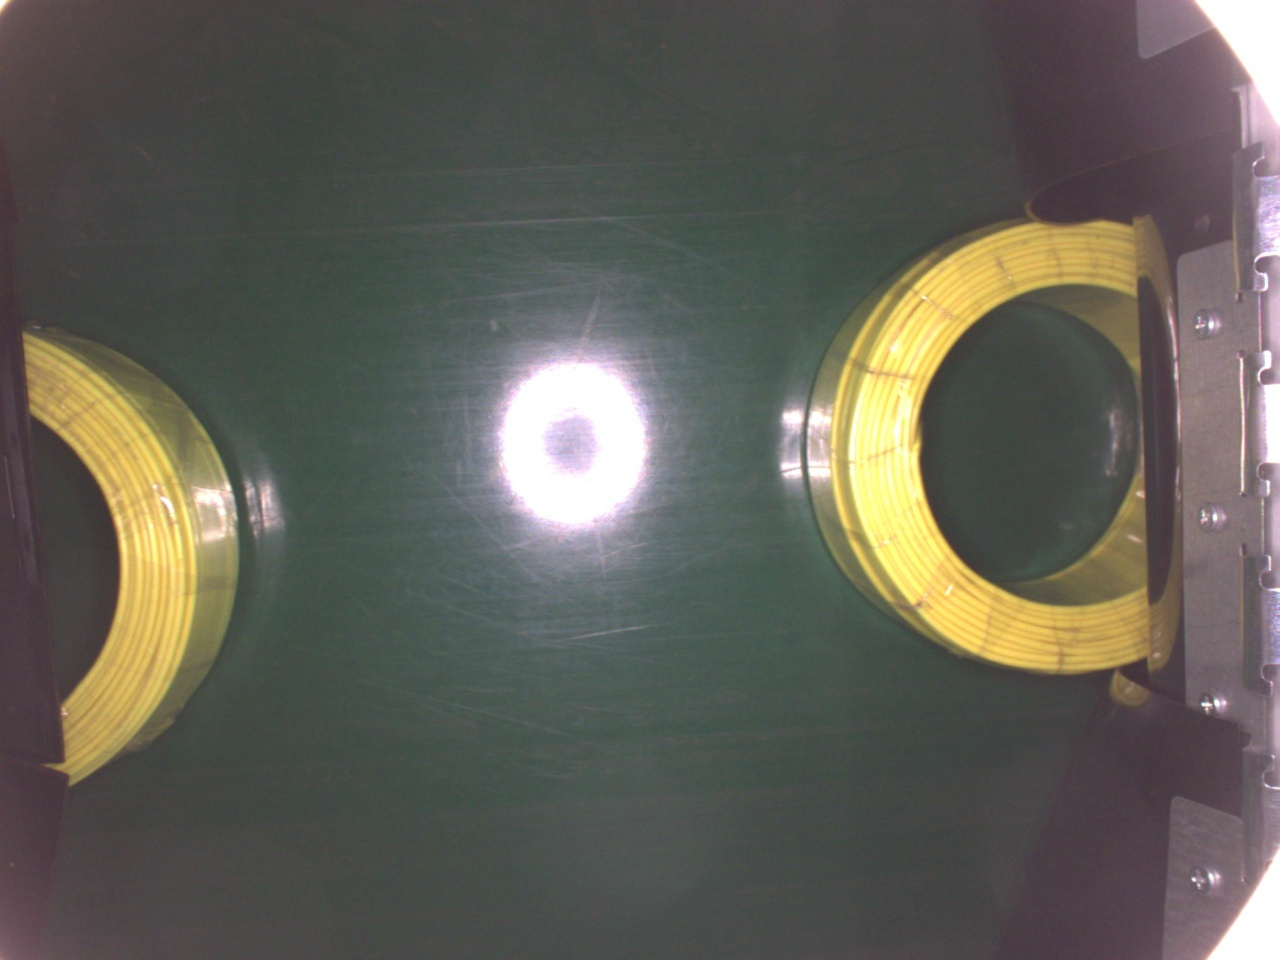yellow: (805, 214, 1152, 675), (23, 315, 241, 786)
